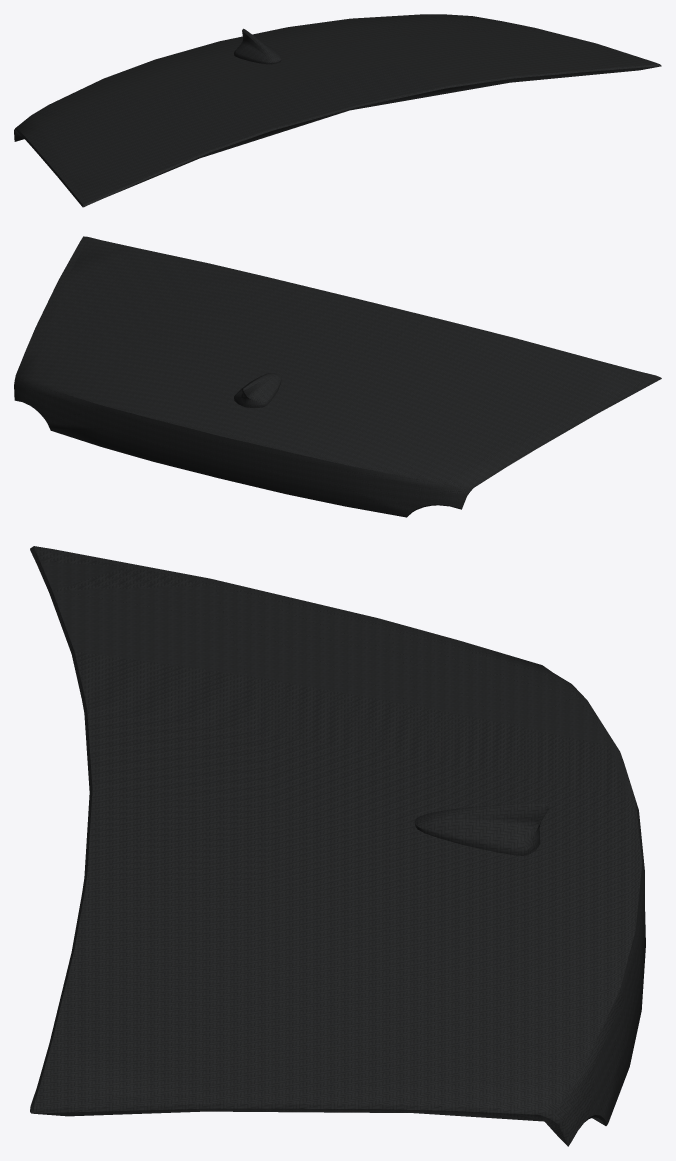
The model's file is BP04_carbon_boot.glb.
3 views of the same model, one above another, from view 1: azimuth 30°, elevation 25°; view 2: azimuth 150°, elevation 25°; view 3: azimuth 270°, elevation 25° (orthographic). The views are drawn at different scales.
Parts seen in each view (by area): view 1: MOD_ND_BP04_lid; view 2: MOD_ND_BP04_lid; view 3: MOD_ND_BP04_lid.
Boxes of the visible parts, <box> form: MOD_ND_BP04_lid: <box>14,14,661,207</box>; MOD_ND_BP04_lid: <box>14,236,661,517</box>; MOD_ND_BP04_lid: <box>30,546,645,1146</box>.
Bounding box in the file's own units: 1.21 × 0.1623 × 0.5566.
Materials: 1 (1 with a texture image).
